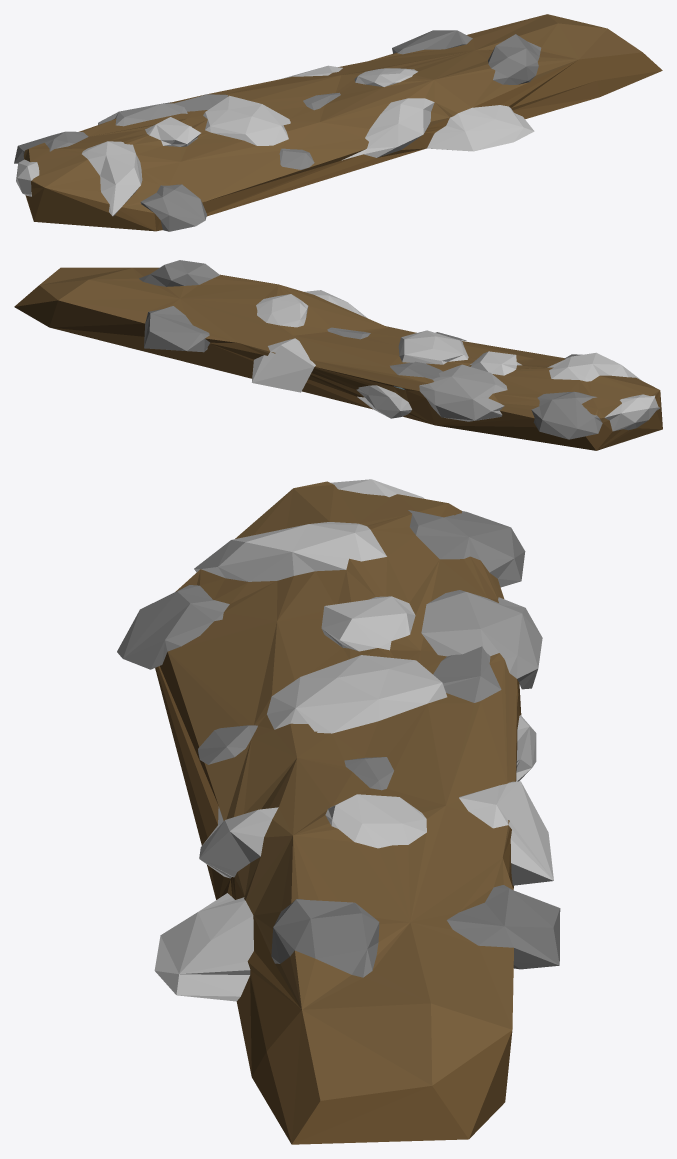
The model's file is EA03_Environment_RoadSide.glb.
3 views of the same model, one above another, from view 1: azimuth 30°, elevation 25°; view 2: azimuth 150°, elevation 25°; view 3: azimuth 270°, elevation 25° (orthographic). The views are drawn at different scales.
Parts seen in each view (by area): view 1: EA03_Environment_RoadSide; view 2: EA03_Environment_RoadSide; view 3: EA03_Environment_RoadSide.
Part boxes in pixels (<box>): EA03_Environment_RoadSide: <box>14,14,662,231</box>; EA03_Environment_RoadSide: <box>14,260,662,450</box>; EA03_Environment_RoadSide: <box>117,479,560,1144</box>.
Bounding box in the file's own units: 4.22 × 0.3753 × 1.32.
1 material, 1 textured.
